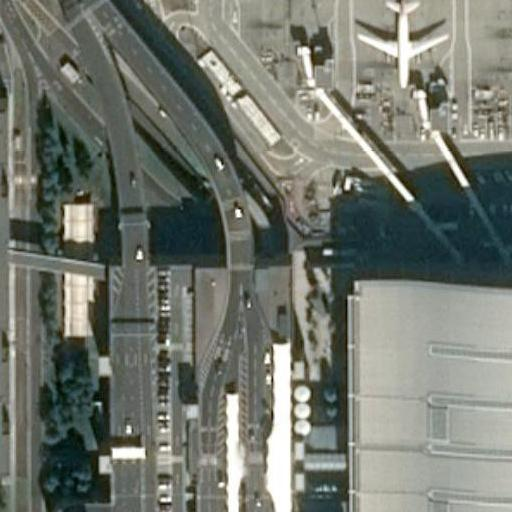Aircraft: (357, 0, 451, 85)
